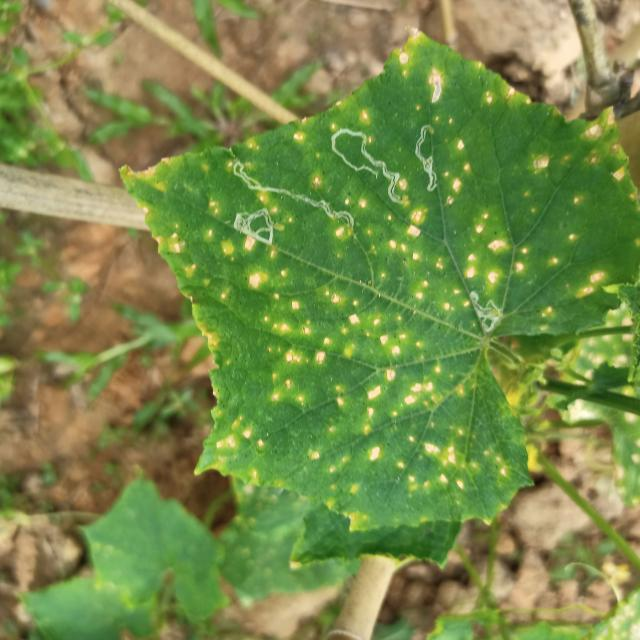disease_cucumber: (169, 47, 615, 325), (157, 230, 520, 505)
